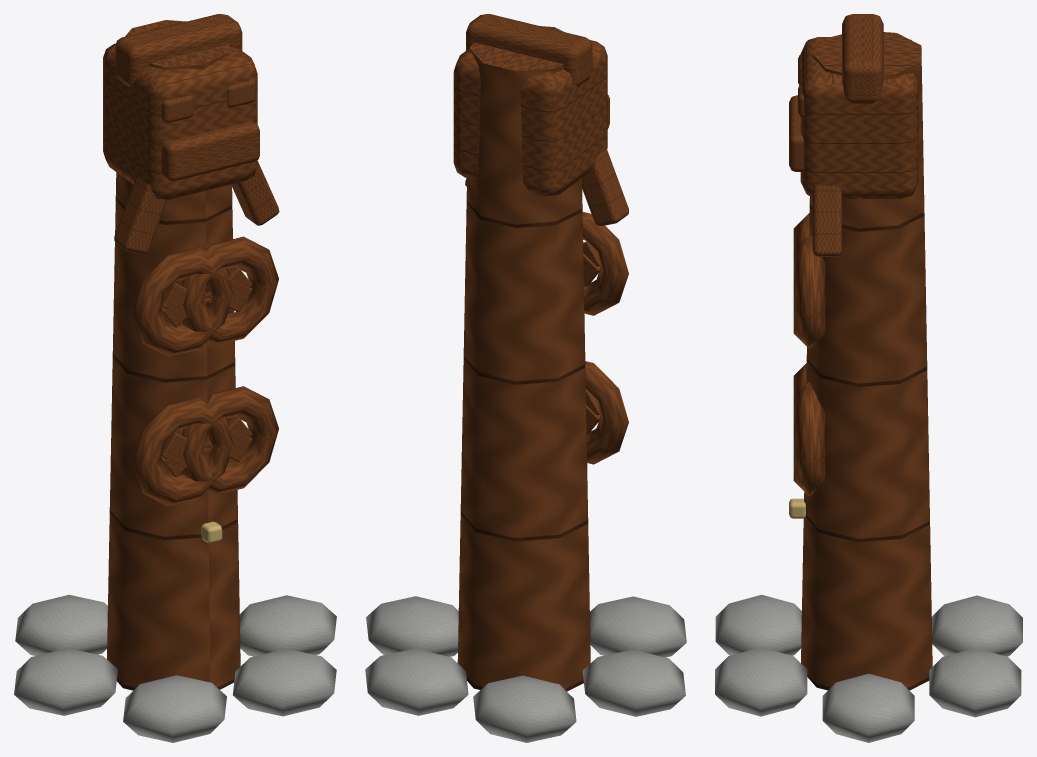
Rendered from viking-age-longhouse-and-longship-wooden-idol-post-6e93da52__30185.glb.
3 views of the same model, side by side, from view 1: azimuth 30°, elevation 25°; view 2: azimuth 150°, elevation 25°; view 3: azimuth 270°, elevation 25° (orthographic).
Visible parts, largest first — view 1: wooden-idol-post; view 2: wooden-idol-post; view 3: wooden-idol-post.
Part boxes in pixels (left/top/right/bottom): wooden-idol-post: left=14, top=14, right=336, bottom=742; wooden-idol-post: left=365, top=14, right=686, bottom=742; wooden-idol-post: left=715, top=14, right=1022, bottom=742.
Bounding box in the file's own units: 1.24 × 2.4 × 1.04.
3 materials, 2 textured.
